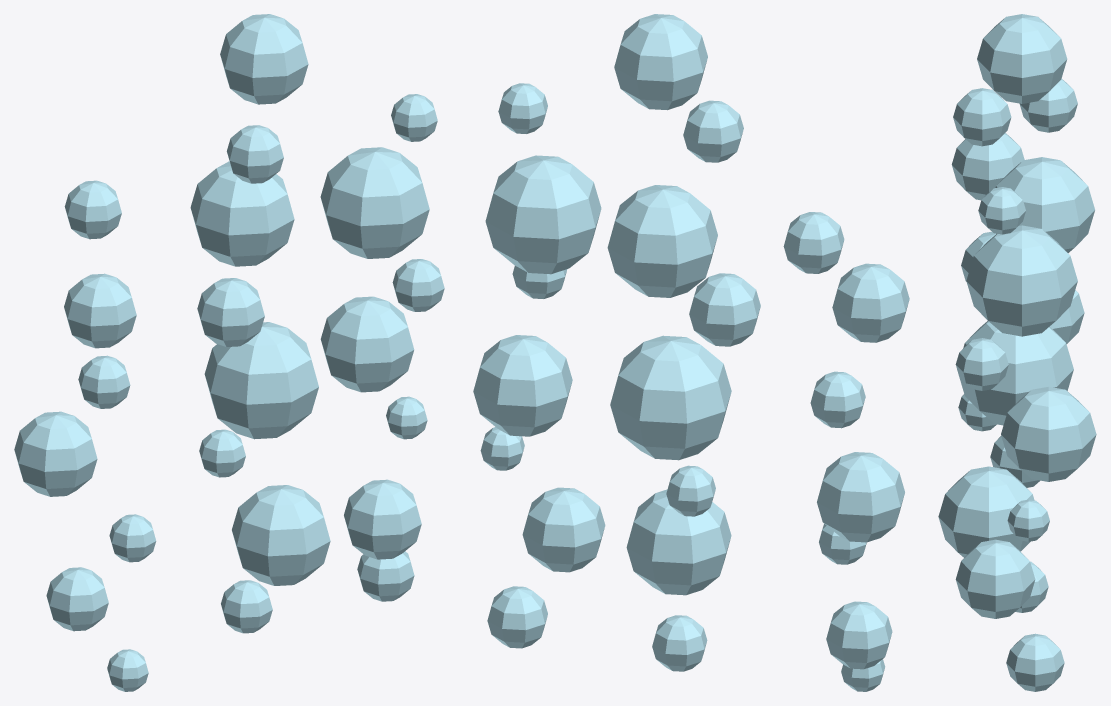
The model's file is Bubbles.fbx.
The picture shows the model from 3 angles, left to right: view 1: azimuth 30°, elevation 25°; view 2: azimuth 150°, elevation 25°; view 3: azimuth 270°, elevation 25°; orthographic projection. The views are drawn at different scales.
Visible parts, largest first — view 1: Bubbles_BubbleMat_bubble_11, Bubbles_BubbleMat_bubble_21, Bubbles_BubbleMat_bubble_13, Bubbles_BubbleMat_bubble_09, Bubbles_BubbleMat_bubble_19, Bubbles_BubbleMat_bubble_15, Bubbles_BubbleMat_bubble_04, Bubbles_BubbleMat_bubble_17, Bubbles_BubbleMat_bubble_06, Bubbles_BubbleMat_bubble_12, Bubbles_BubbleMat_bubble_02, Bubbles_BubbleMat_bubble_14 (+10 smaller); view 2: Bubbles_BubbleMat_bubble_11, Bubbles_BubbleMat_bubble_21, Bubbles_BubbleMat_bubble_13, Bubbles_BubbleMat_bubble_19, Bubbles_BubbleMat_bubble_09, Bubbles_BubbleMat_bubble_15, Bubbles_BubbleMat_bubble_04, Bubbles_BubbleMat_bubble_17, Bubbles_BubbleMat_bubble_06, Bubbles_BubbleMat_bubble_12, Bubbles_BubbleMat_bubble_02, Bubbles_BubbleMat_bubble_16 (+10 smaller); view 3: Bubbles_BubbleMat_bubble_21, Bubbles_BubbleMat_bubble_19, Bubbles_BubbleMat_bubble_15, Bubbles_BubbleMat_bubble_11, Bubbles_BubbleMat_bubble_09, Bubbles_BubbleMat_bubble_13, Bubbles_BubbleMat_bubble_17, Bubbles_BubbleMat_bubble_06, Bubbles_BubbleMat_bubble_16, Bubbles_BubbleMat_bubble_14, Bubbles_BubbleMat_bubble_20, Bubbles_BubbleMat_bubble_07 (+7 smaller).
Part boxes in pixels (box(x1,y1,x2,y2)): Bubbles_BubbleMat_bubble_11: box(204, 322, 318, 439); Bubbles_BubbleMat_bubble_21: box(320, 147, 429, 258); Bubbles_BubbleMat_bubble_13: box(190, 161, 294, 266); Bubbles_BubbleMat_bubble_09: box(232, 485, 330, 585); Bubbles_BubbleMat_bubble_19: box(320, 296, 414, 392); Bubbles_BubbleMat_bubble_15: box(220, 14, 308, 104); Bubbles_BubbleMat_bubble_04: box(14, 411, 97, 496); Bubbles_BubbleMat_bubble_17: box(344, 479, 421, 559); Bubbles_BubbleMat_bubble_06: box(64, 273, 136, 348); Bubbles_BubbleMat_bubble_12: box(197, 278, 264, 346); Bubbles_BubbleMat_bubble_02: box(46, 567, 108, 631); Bubbles_BubbleMat_bubble_14: box(226, 125, 283, 183); Bubbles_BubbleMat_bubble_11: box(610, 335, 731, 460); Bubbles_BubbleMat_bubble_21: box(485, 155, 601, 274); Bubbles_BubbleMat_bubble_13: box(607, 185, 717, 297); Bubbles_BubbleMat_bubble_19: box(473, 335, 572, 436); Bubbles_BubbleMat_bubble_09: box(626, 489, 731, 595); Bubbles_BubbleMat_bubble_15: box(614, 14, 707, 110); Bubbles_BubbleMat_bubble_04: box(817, 452, 904, 542); Bubbles_BubbleMat_bubble_17: box(522, 487, 605, 572); Bubbles_BubbleMat_bubble_06: box(832, 263, 909, 342); Bubbles_BubbleMat_bubble_12: box(689, 273, 760, 346); Bubbles_BubbleMat_bubble_02: box(826, 601, 892, 669); Bubbles_BubbleMat_bubble_16: box(487, 586, 547, 648); Bubbles_BubbleMat_bubble_21: box(966, 225, 1077, 336); Bubbles_BubbleMat_bubble_19: box(1001, 386, 1096, 481); Bubbles_BubbleMat_bubble_15: box(977, 14, 1067, 103); Bubbles_BubbleMat_bubble_11: box(958, 321, 1073, 425); Bubbles_BubbleMat_bubble_09: box(938, 466, 1034, 557); Bubbles_BubbleMat_bubble_13: box(995, 157, 1094, 252); Bubbles_BubbleMat_bubble_17: box(955, 539, 1035, 618); Bubbles_BubbleMat_bubble_06: box(951, 133, 1024, 200); Bubbles_BubbleMat_bubble_16: box(1006, 633, 1064, 691); Bubbles_BubbleMat_bubble_14: box(953, 88, 1011, 146); Bubbles_BubbleMat_bubble_20: box(955, 338, 1008, 390); Bubbles_BubbleMat_bubble_07: box(1019, 78, 1077, 132).
Size of the model in its own units: 343 by 506 by 119.
